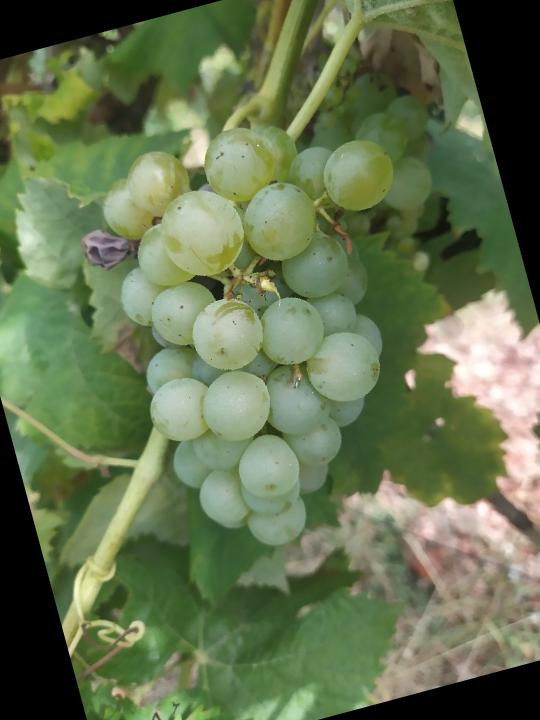grape: (80, 83, 486, 575)
